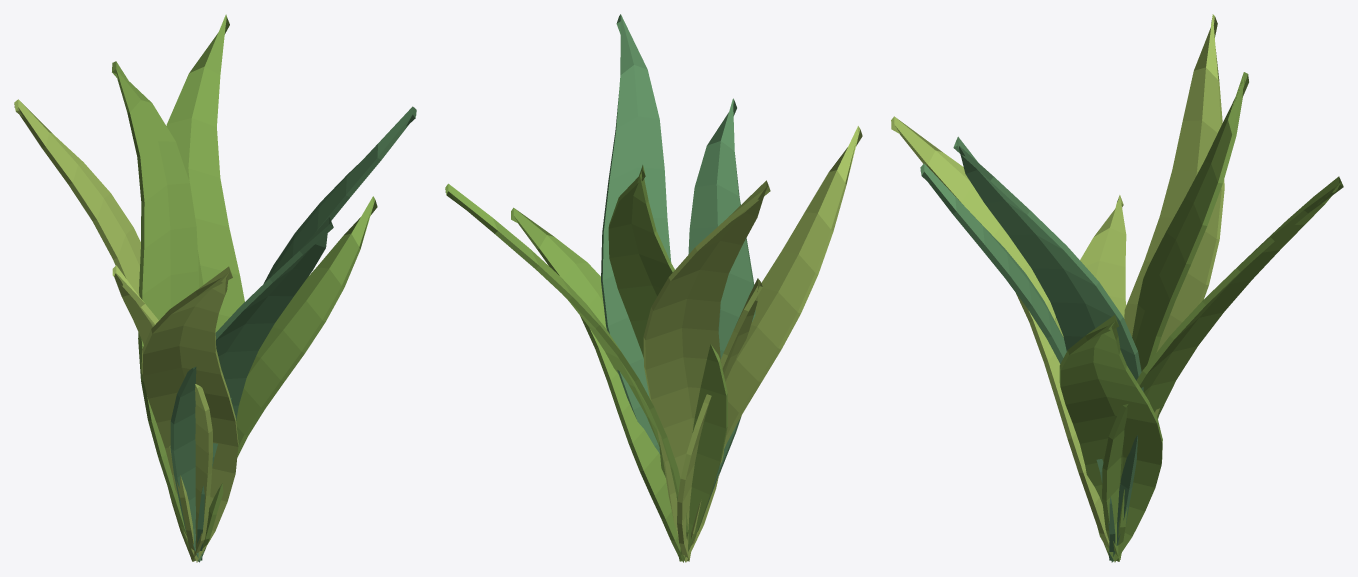
File: Seagrass.fbx
3 views of the same model, side by side, from view 1: azimuth 30°, elevation 25°; view 2: azimuth 150°, elevation 25°; view 3: azimuth 270°, elevation 25° (orthographic). The views are drawn at different scales.
Visible parts, largest first — view 1: SM_Seagrass; view 2: SM_Seagrass; view 3: SM_Seagrass.
Boxes of the visible parts, x1,y1,x2,y2 form: SM_Seagrass: (14,14,416,562); SM_Seagrass: (445,14,862,562); SM_Seagrass: (891,14,1343,562).
Size of the model in its own units: 0.5263 by 0.7604 by 0.6291.
